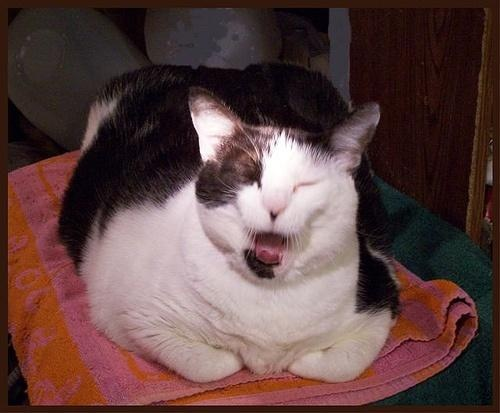cat: (57, 60, 399, 391)
